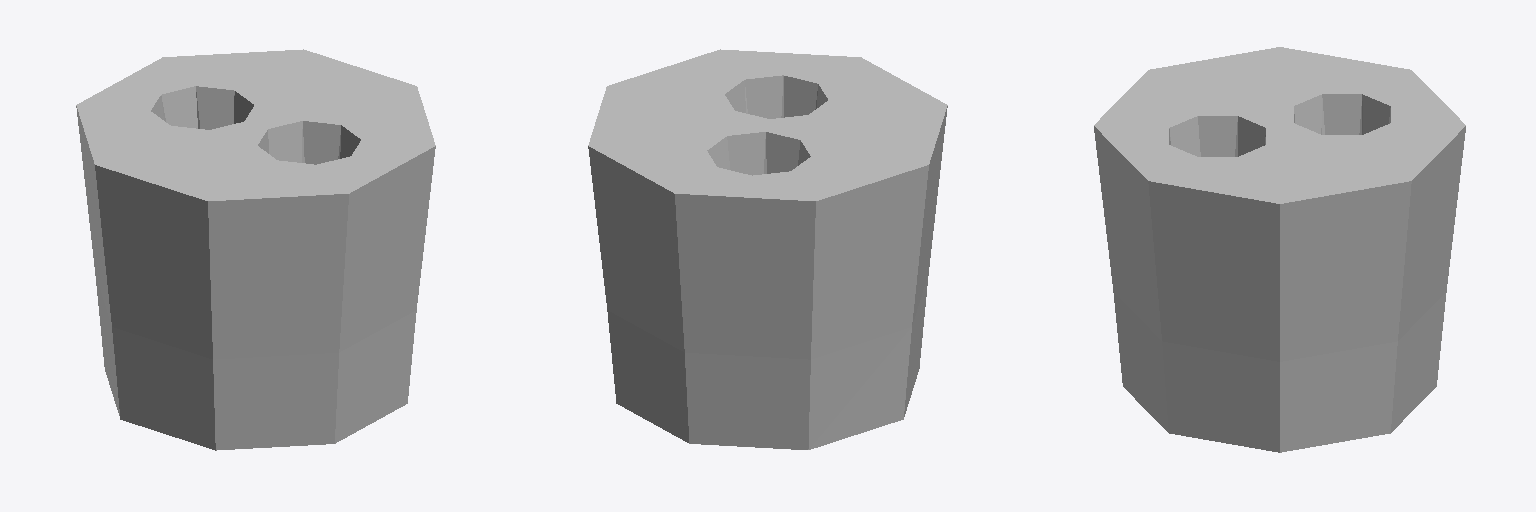
File: Erlenmeyer_Holed_Stopper.obj
The picture shows the model from 3 angles: view 1: azimuth 30°, elevation 25°; view 2: azimuth 150°, elevation 25°; view 3: azimuth 270°, elevation 25°; orthographic projection.
Parts seen in each view (by area): view 1: Mesh1 Model; view 2: Mesh1 Model; view 3: Mesh1 Model.
Part boxes in pixels (left/top/right/bottom): Mesh1 Model: left=76, top=49, right=435, bottom=450; Mesh1 Model: left=588, top=49, right=947, bottom=449; Mesh1 Model: left=1094, top=47, right=1465, bottom=452.
Size of the model in its own units: 0.071 by 0.055 by 0.0711.